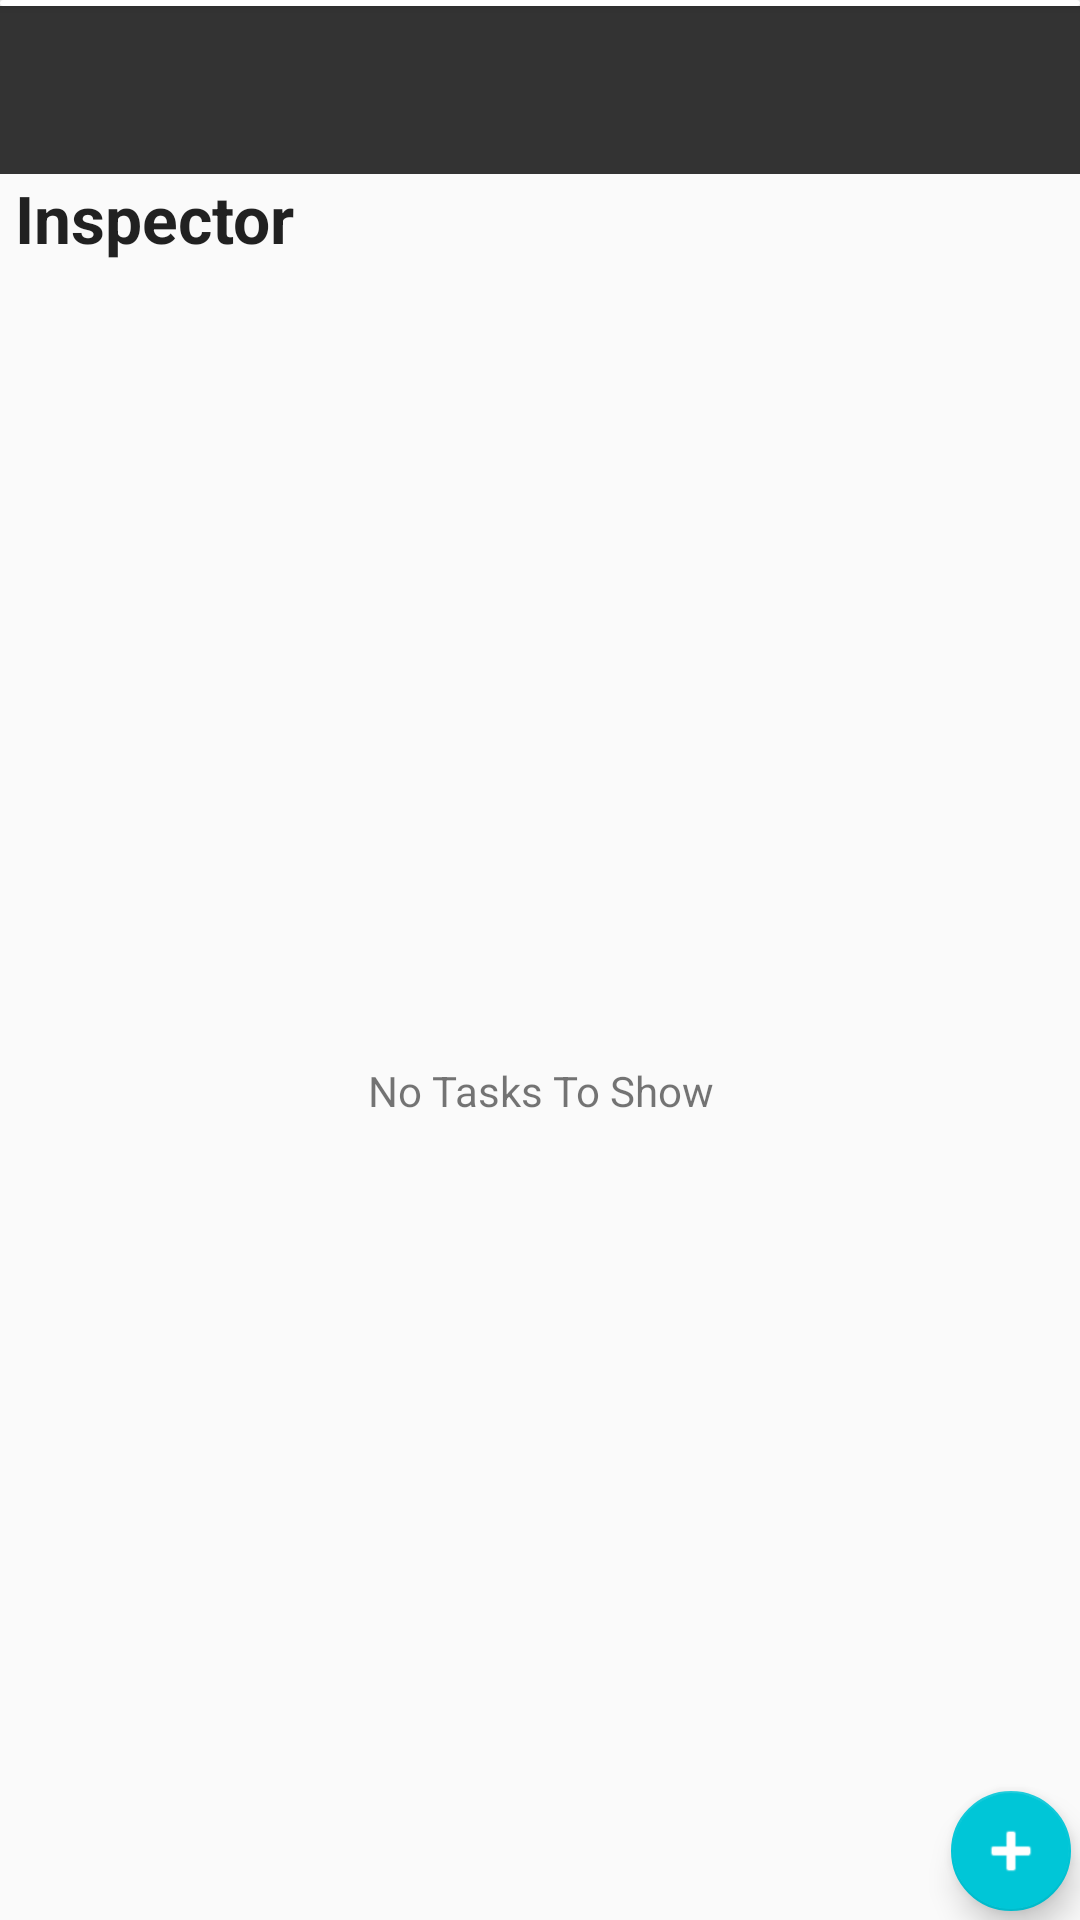

Where icons sit on this 1080px x 1920px app screen, as (x1, y1, x2, y2):
add: (951, 1791, 1071, 1911)
